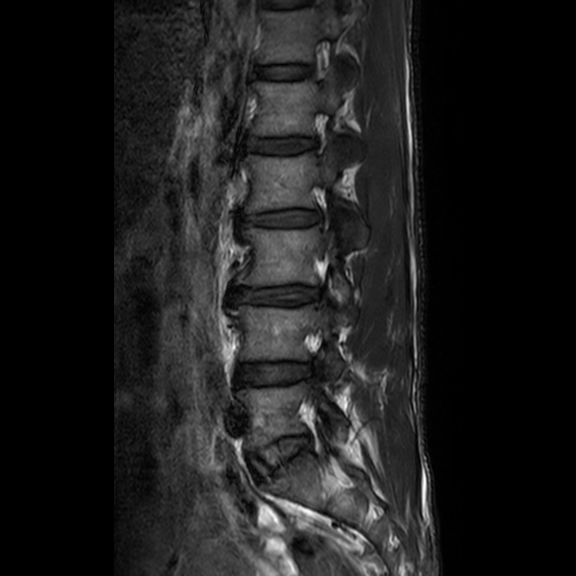LFS1: (299, 104, 341, 164)
